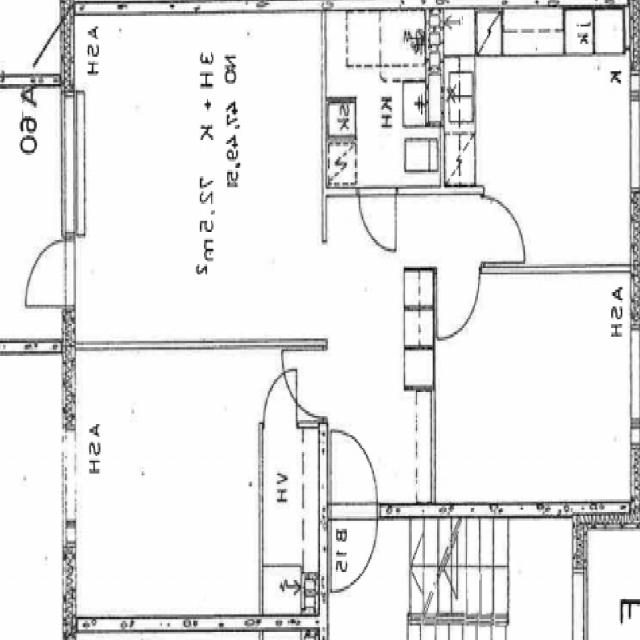door: (332, 431, 378, 518), (332, 504, 378, 591), (20, 240, 73, 306), (278, 352, 328, 417), (438, 263, 480, 339), (481, 198, 526, 261), (360, 186, 397, 253), (265, 368, 298, 428)
